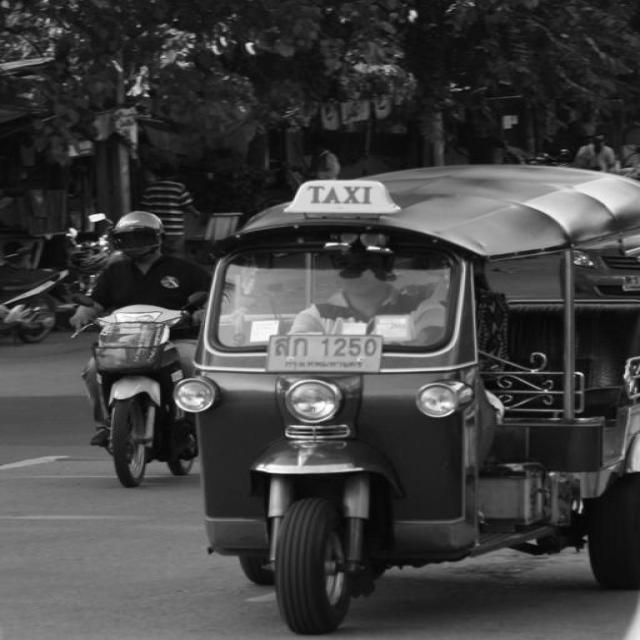plate: (270, 335, 384, 372)
